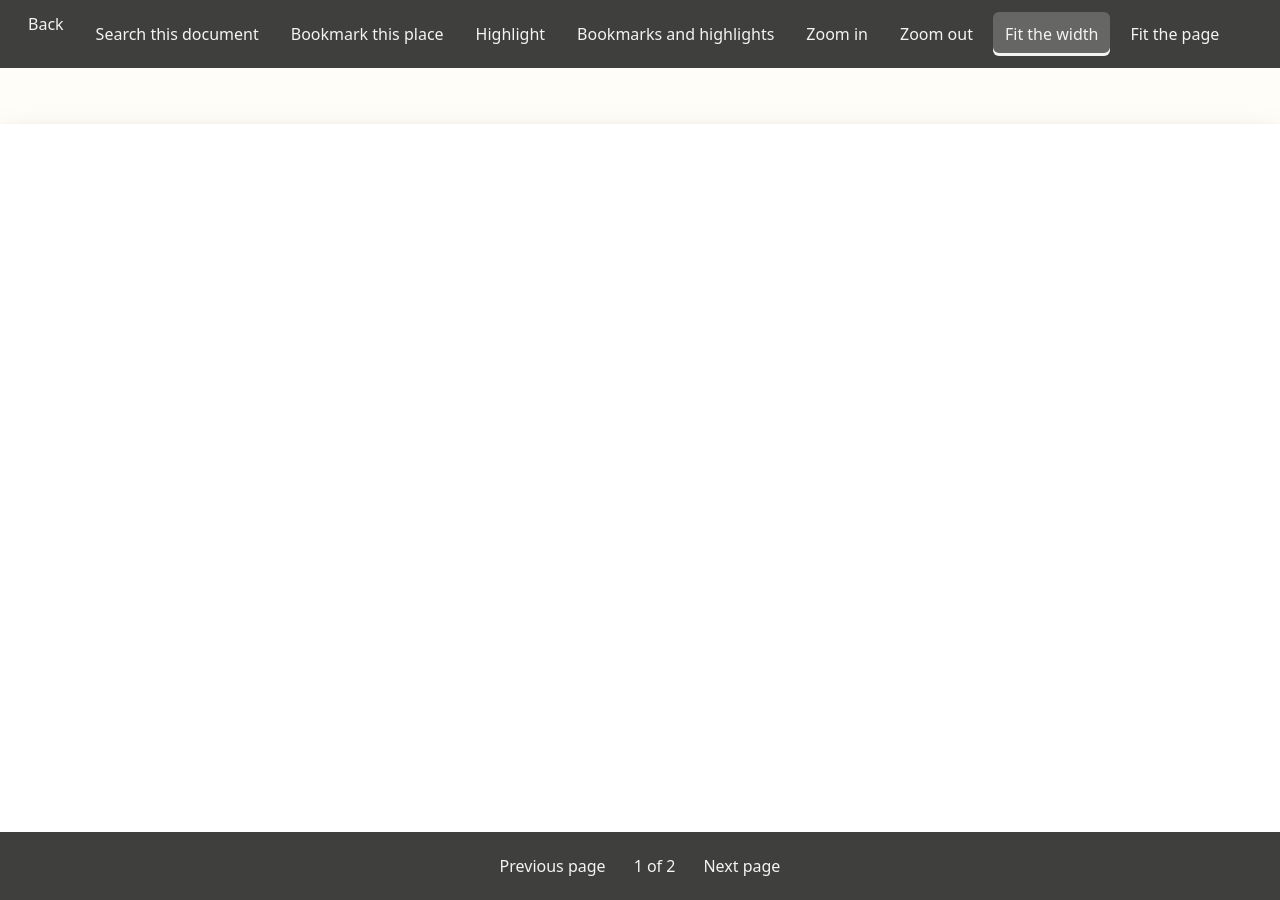
Test: Book Reader (PDF) › searches the document's own text layer and goes to the page that matches
Expected: the message reads "1 of 2", [634,855,675,877]
Step 1. Click the button "Search this document" → (177, 34), box [84,12,271,56]
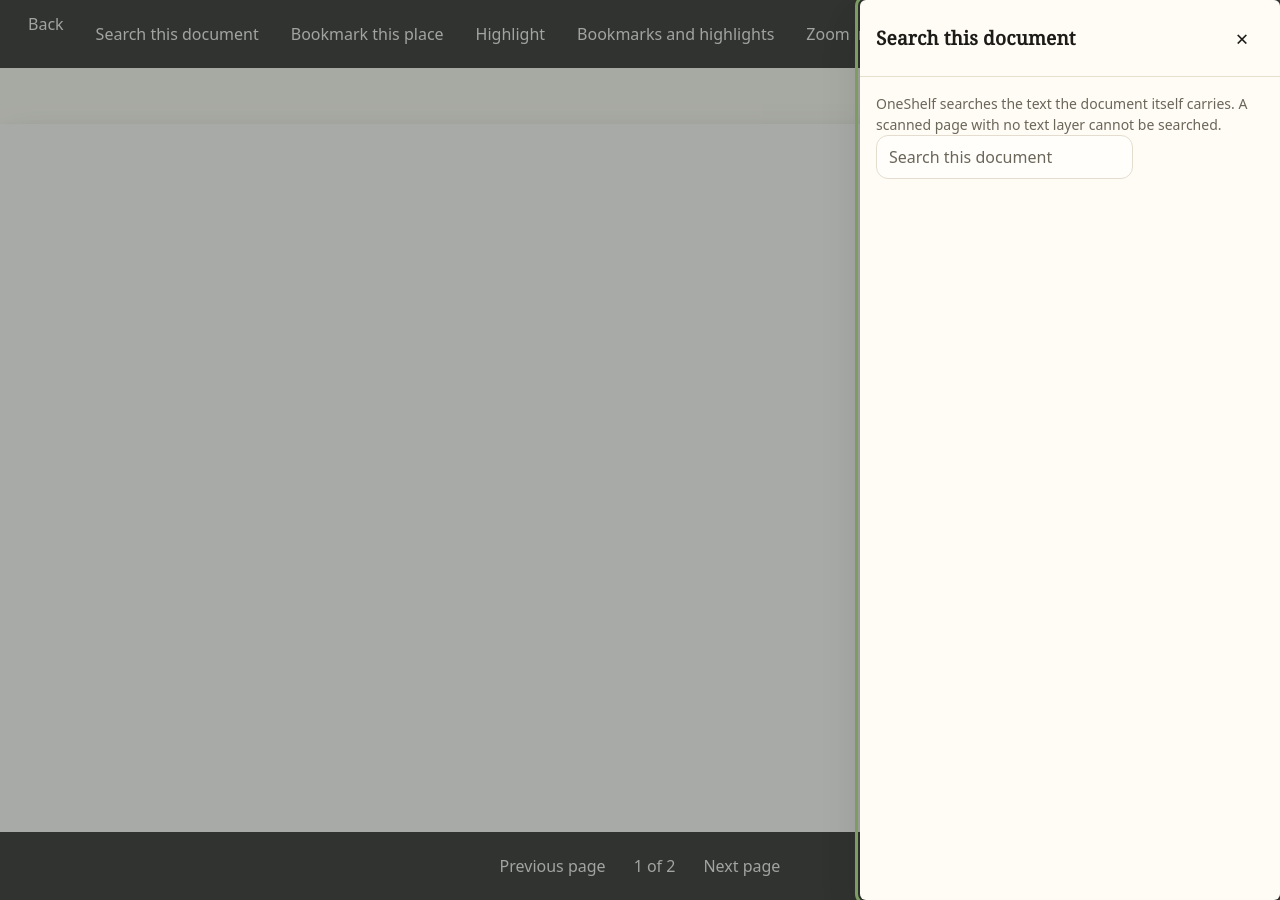
Step 2. Type "rain" into the search field → (1004, 157), box [876,135,1133,179]
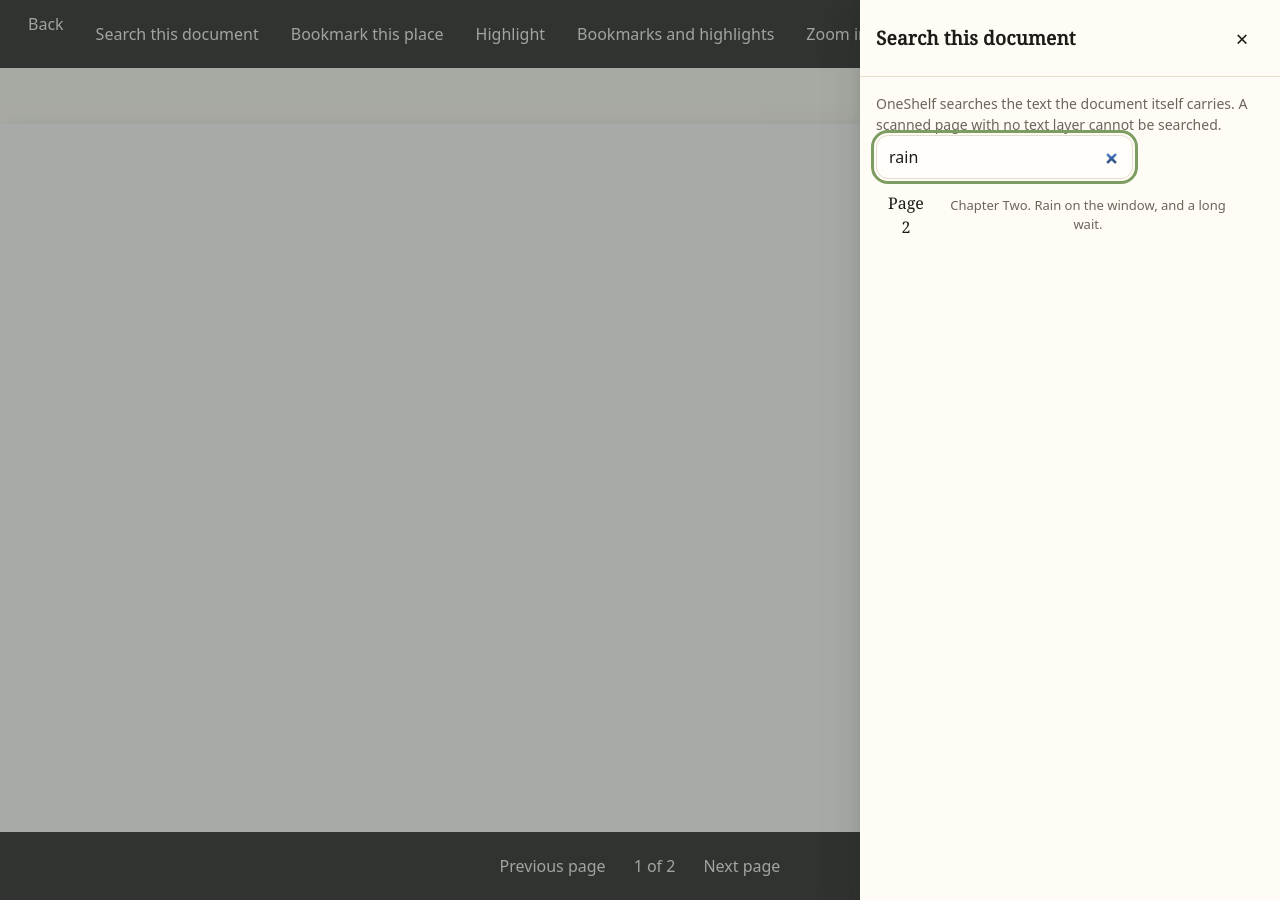
Step 3. Click the button "Page 2 Chapter Two. Rain on the window, and a long wait." → (1070, 215), box [876,179,1264,251]
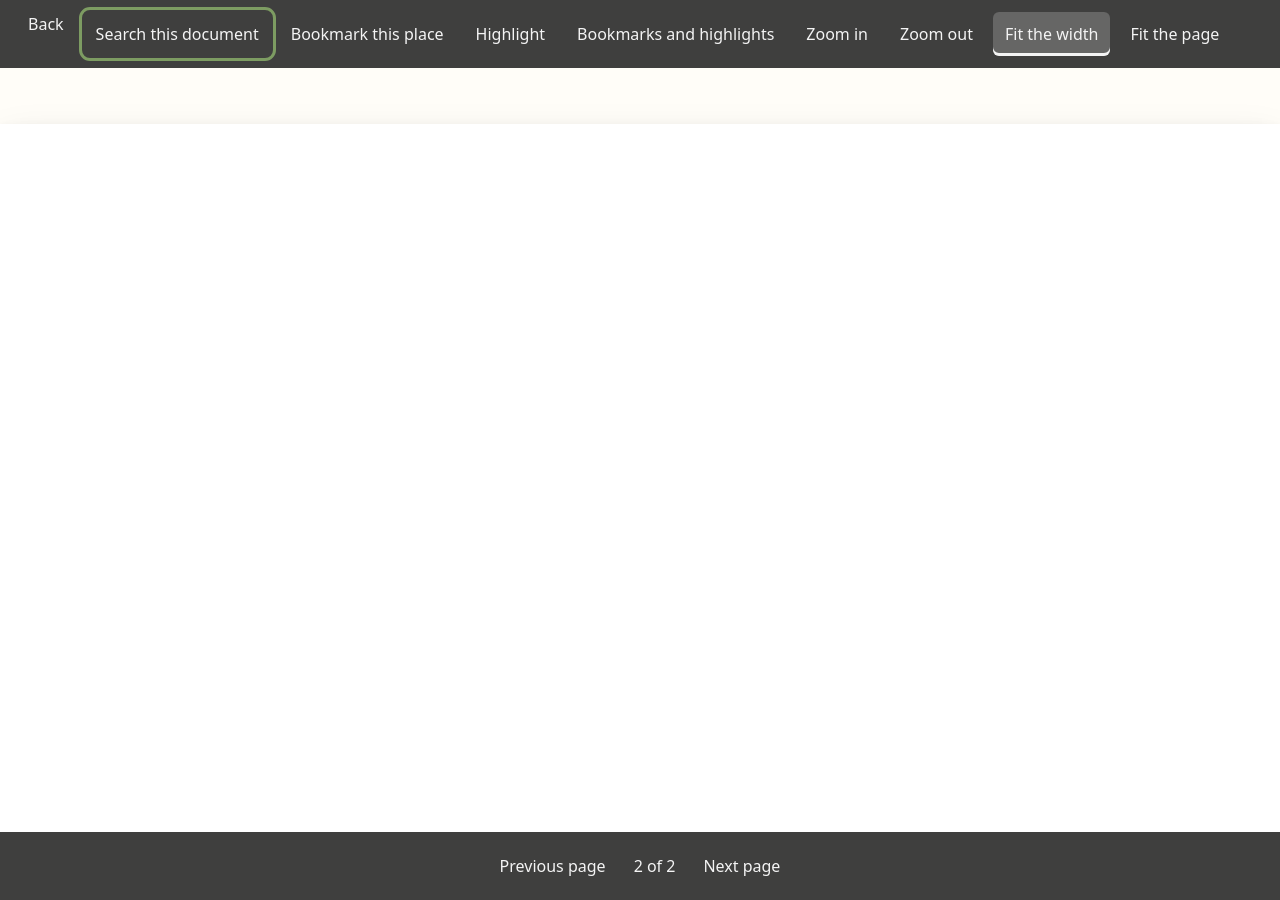
Now the message reads "2 of 2", box [634,855,675,877]
